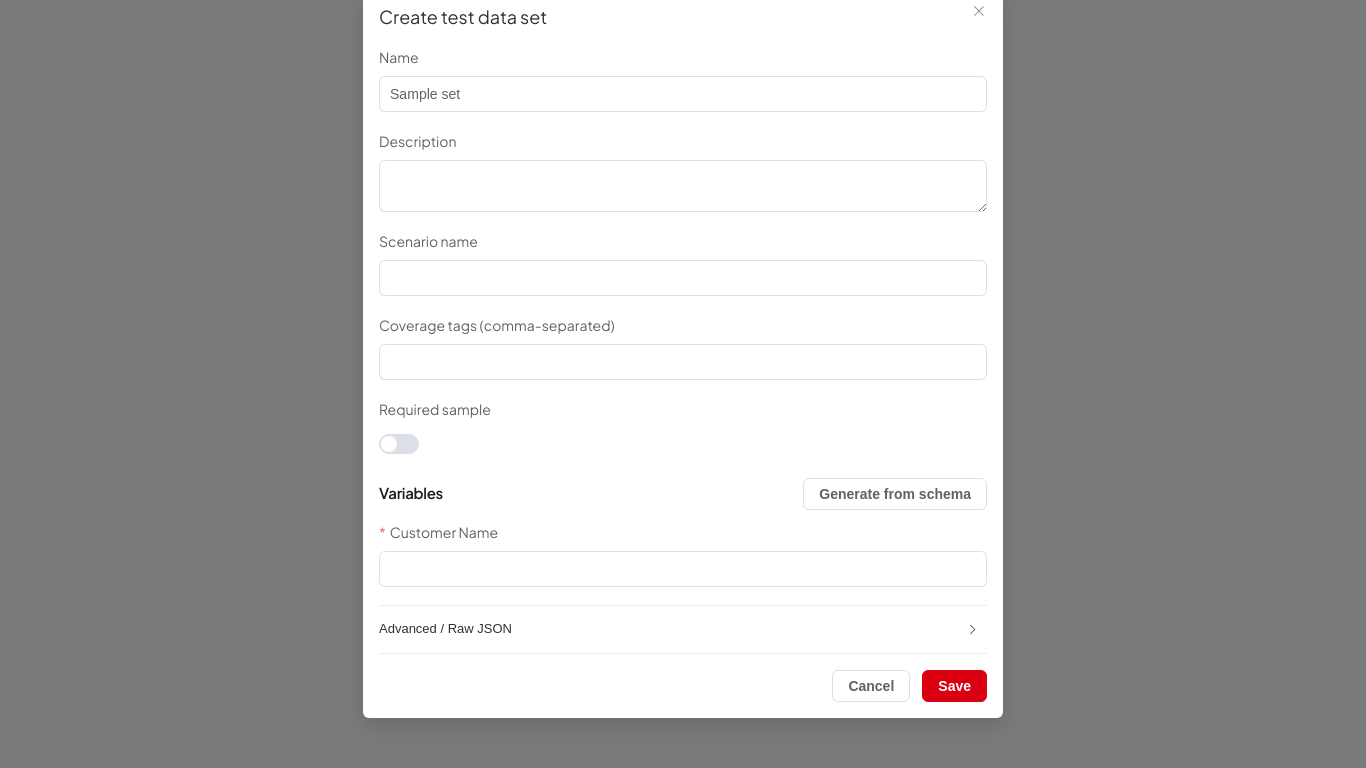
Test case: TemplateTestDataSetEditDialog › blocks save when required field empty (S3)
(page scrolled)
Click the button with test id "test-data-set-save". click: (955, 686)
box: [922, 670, 987, 702]
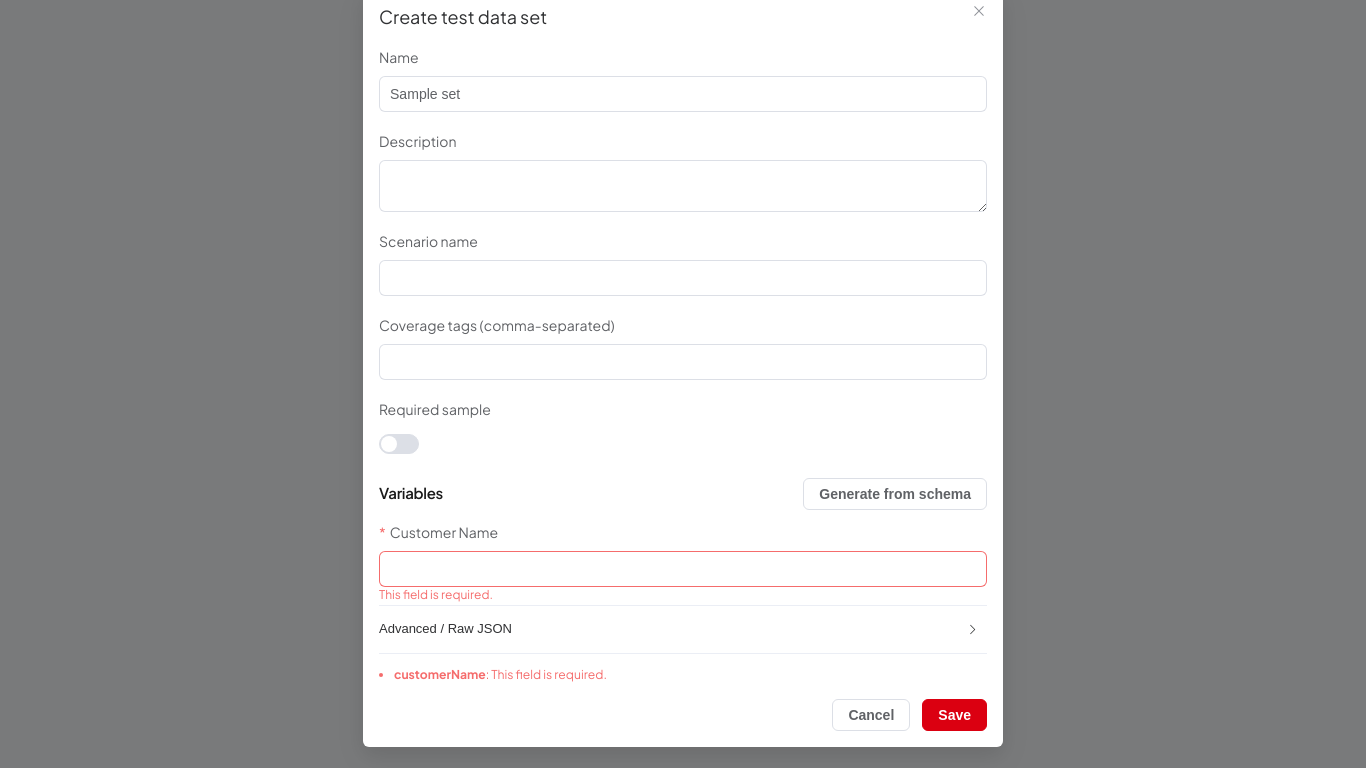
Result: the list with test id "field-error-summary" is shown at [394, 666, 607, 682]
